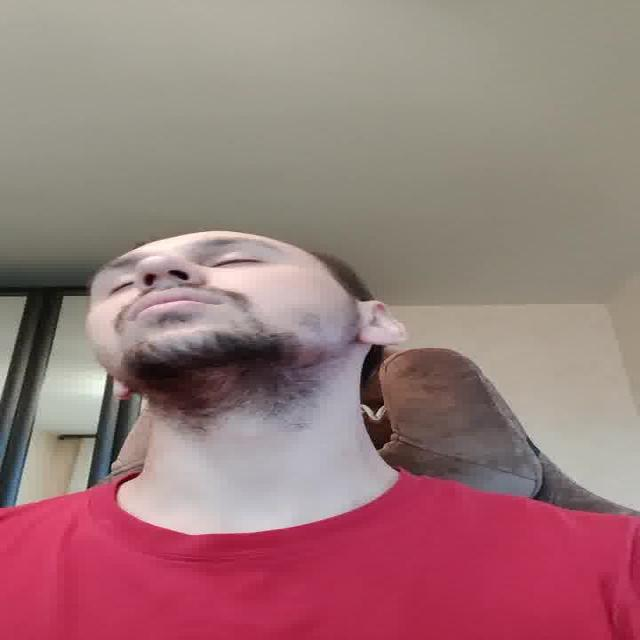earlobe: (360, 333, 407, 348), (114, 382, 134, 400)
eye: (212, 256, 268, 270), (104, 278, 137, 296)
nose: (140, 275, 206, 291)
wholeear: (359, 300, 407, 349)
